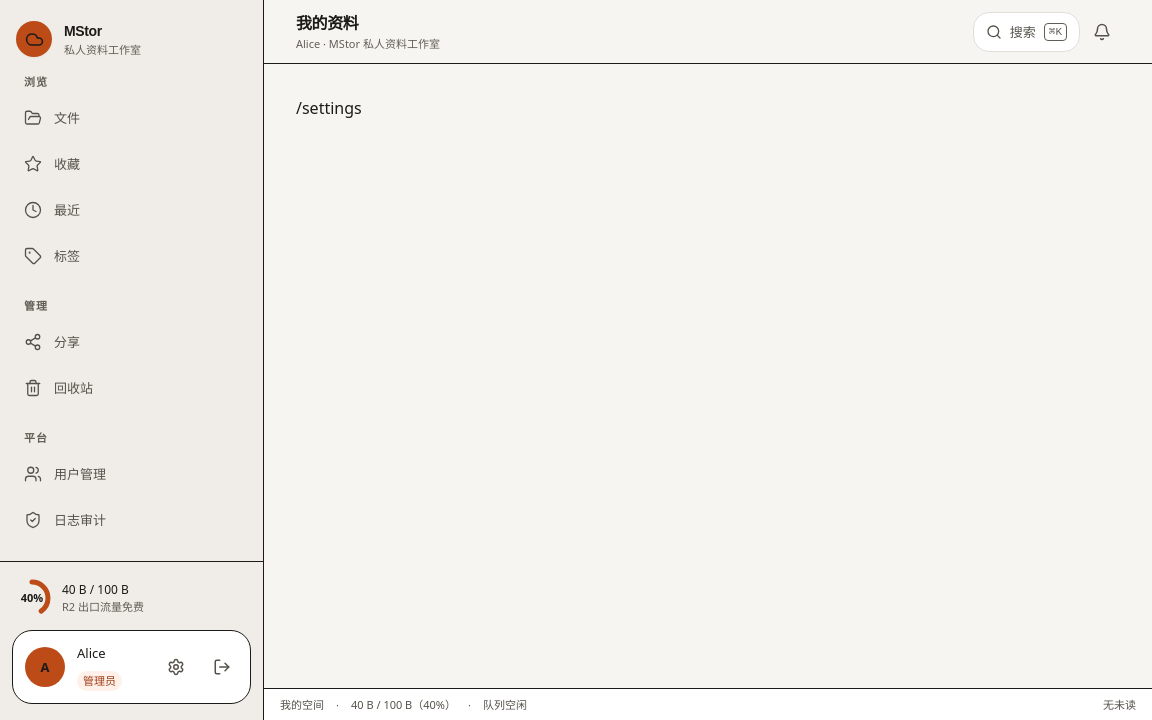
Test: logout opens confirm dialog; cancel keeps session
What coordinates should you click on to do the following:
click the button named "退出"
I would click on:
 (222, 667)
Its box is [206,651,238,683].
(page scrolled)
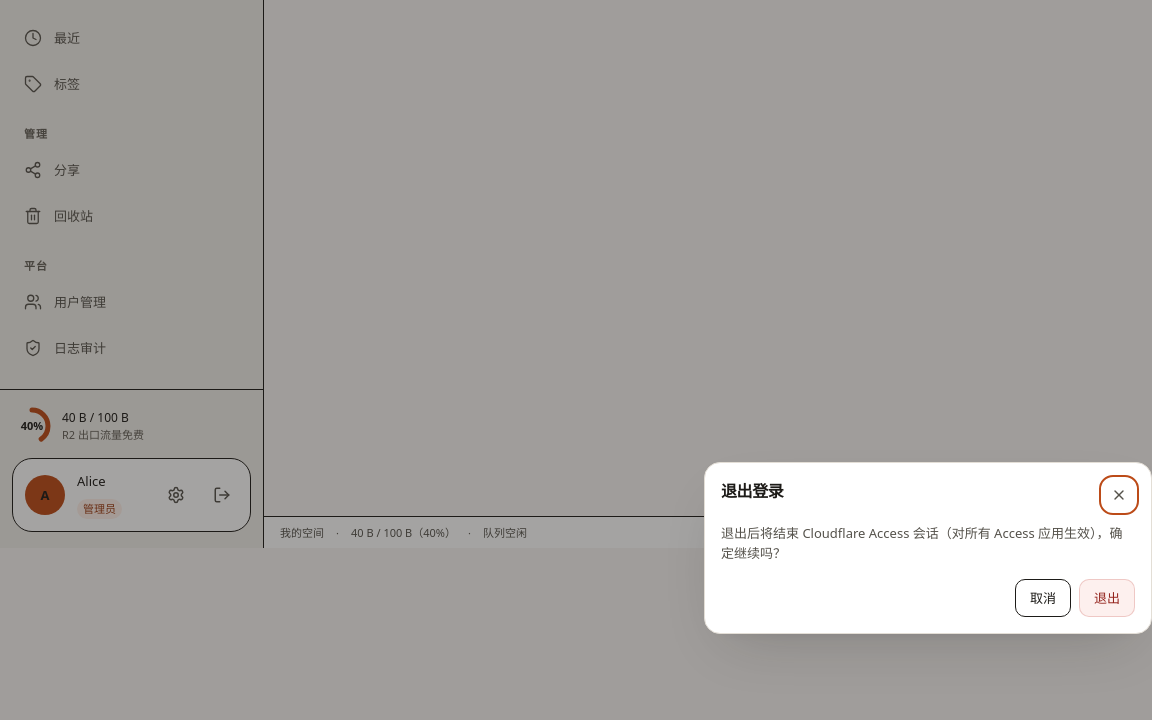
Now the heading "退出登录" is shown, box [721,479,783,503]
Now the text "退出后将结束 Cloudflare Access 会话（对所有 Access 应用生效），确定继续吗？" is shown, box [721,523,1135,563]
What coordinates should you click on to do the following:
click the button "取消"
I would click on:
 (1043, 598)
Its box is [1015,579,1071,617].
(page scrolled)
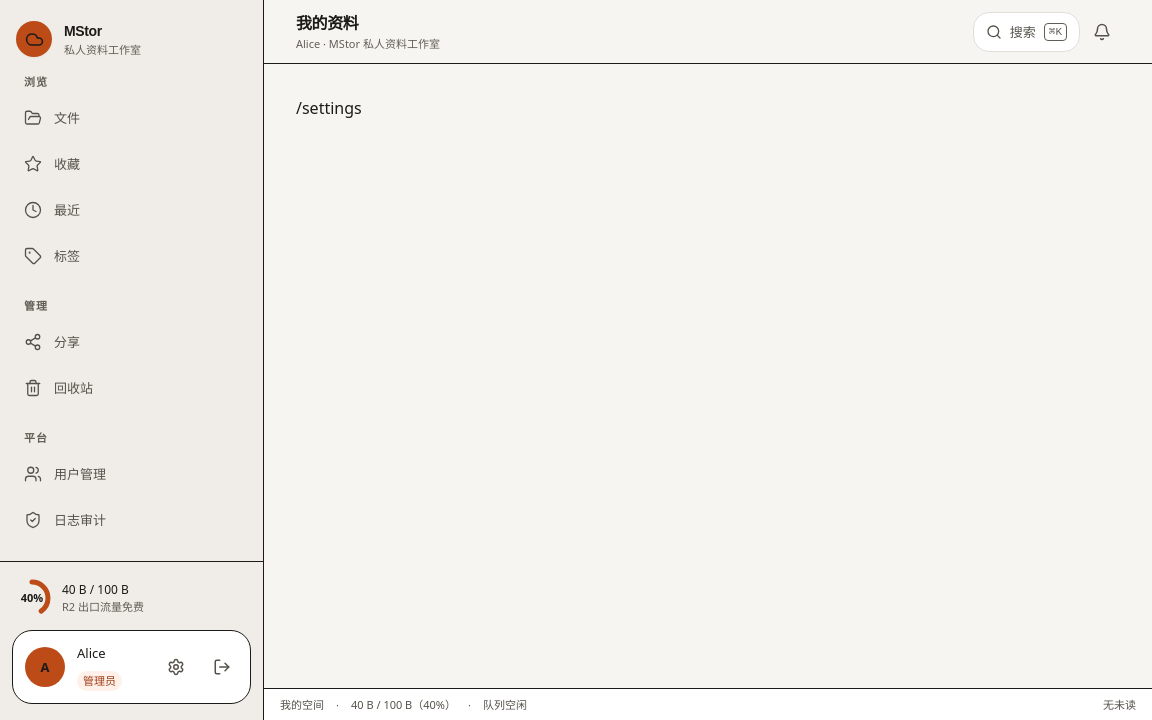
Expected: the text with test id "loc" reads "/settings", [296,97,362,119]
Now the heading "退出登录" is gone
